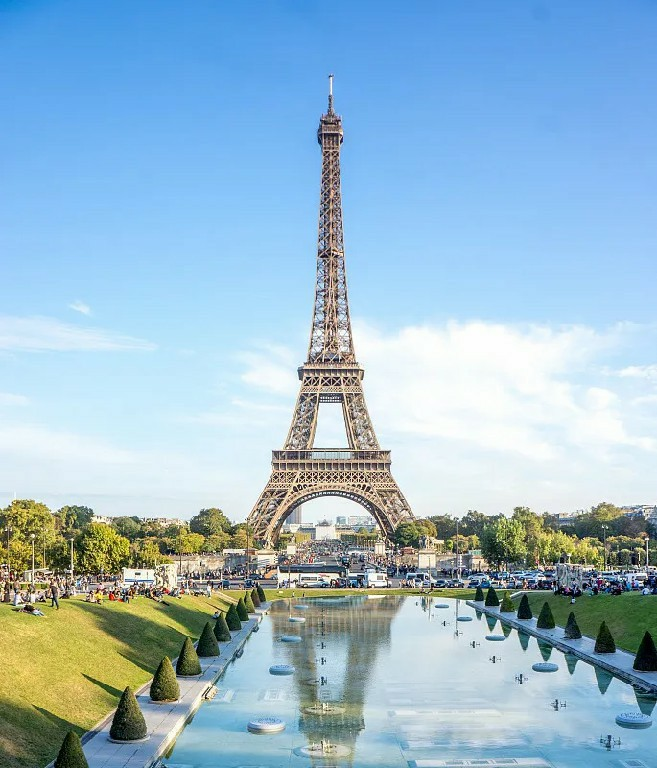Eiffel: (245, 74, 420, 549)
